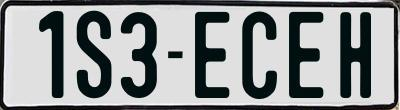1: (38, 11, 64, 104)
3: (121, 12, 162, 104)
C: (241, 9, 280, 102)
E: (192, 10, 228, 100), (289, 10, 325, 99)
H: (338, 10, 369, 98)
S: (74, 8, 111, 101)
